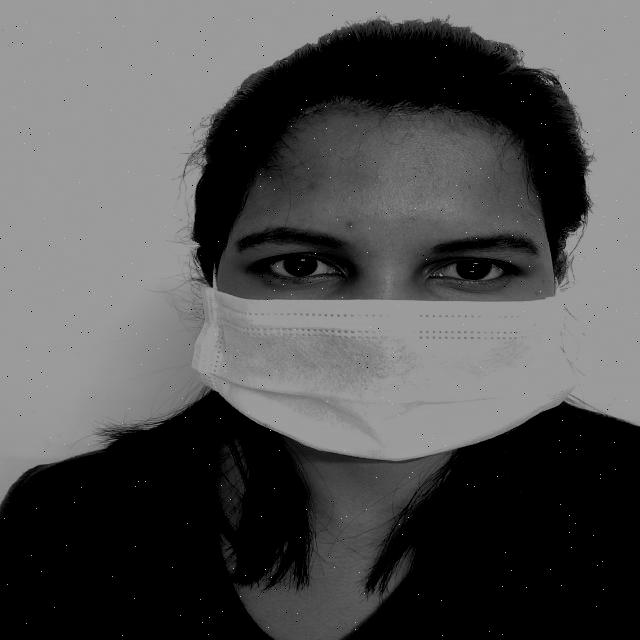fake: (192, 280, 580, 464)
real: (215, 96, 559, 466)
